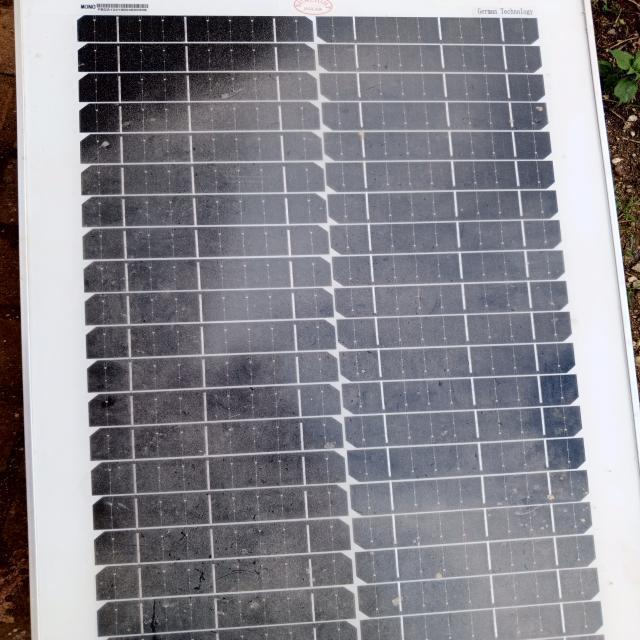Surface Contaminant: (66, 101, 576, 639)
